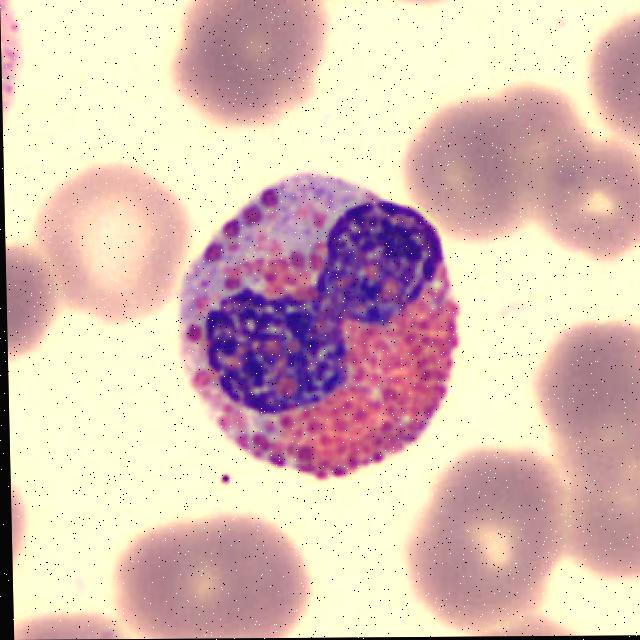eosinophil: (168, 166, 462, 485)
rbc: (404, 455, 566, 634), (43, 145, 196, 328), (159, 0, 336, 134), (175, 511, 328, 639), (408, 106, 541, 250), (543, 308, 640, 492), (108, 524, 257, 639), (478, 94, 594, 240), (535, 143, 640, 265), (555, 439, 640, 583), (577, 0, 640, 155), (5, 232, 61, 382), (10, 462, 46, 640), (444, 606, 603, 637), (14, 607, 162, 640)
